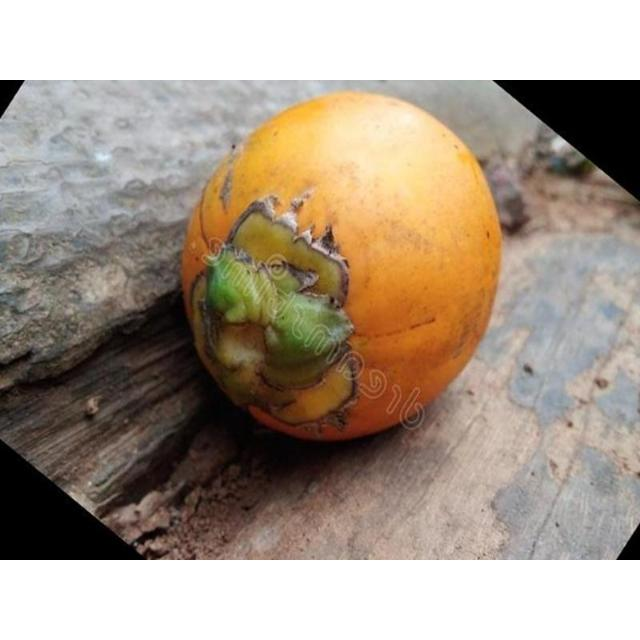good: (178, 90, 503, 445)
